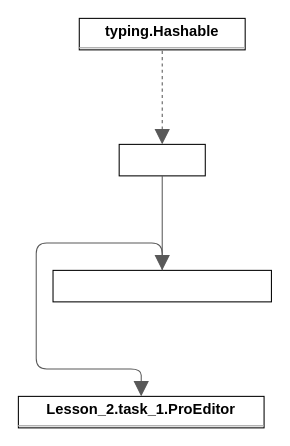
The diagram is 290 pixels wide and 446 high, and some of its shapes have lost their labels. The shapes that lost their labels are listed below. From the top down, each one's centre as x and y in pixels, then its label:
At (x=161, y=159): "object".
At (x=161, y=285): "Lesson_2.task_1.Editor".
